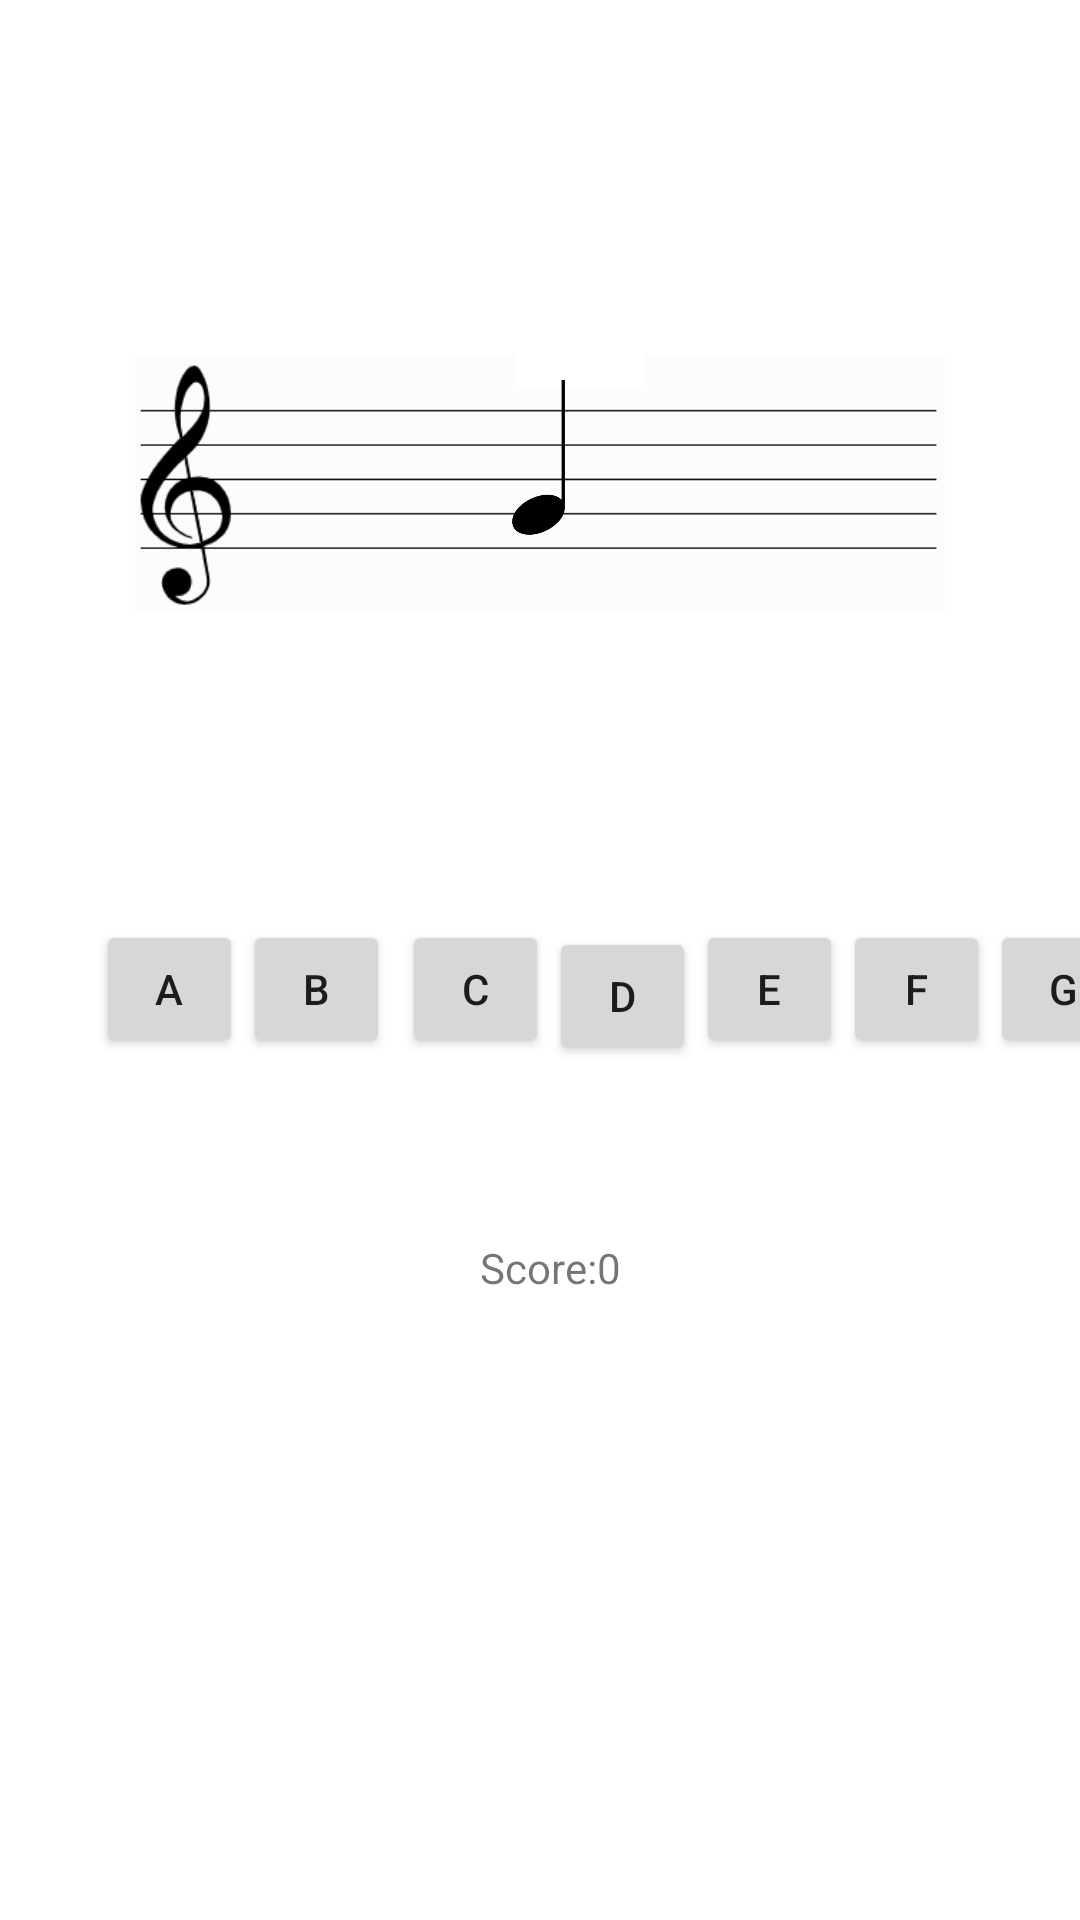

Where to tap for icons on this 1080px×1920px app screen, as (x,y):
note: (538,457)
